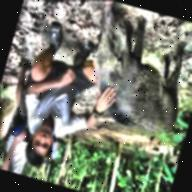boar: (63, 13, 192, 157)
